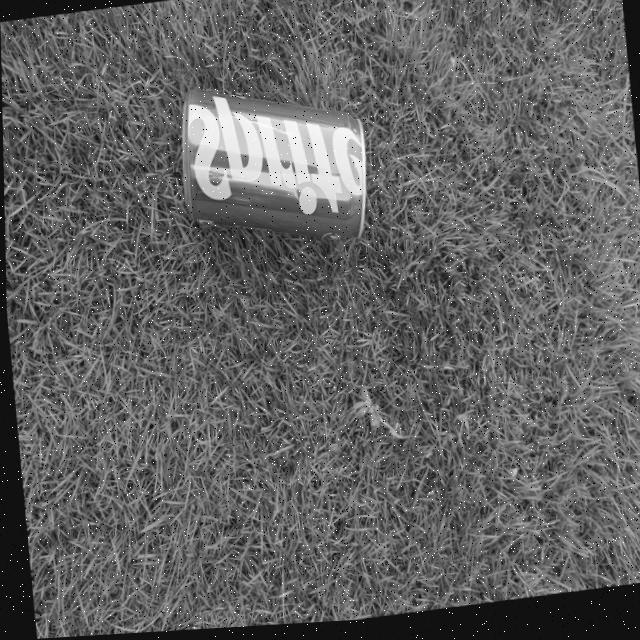Sprite: (166, 76, 376, 260)
